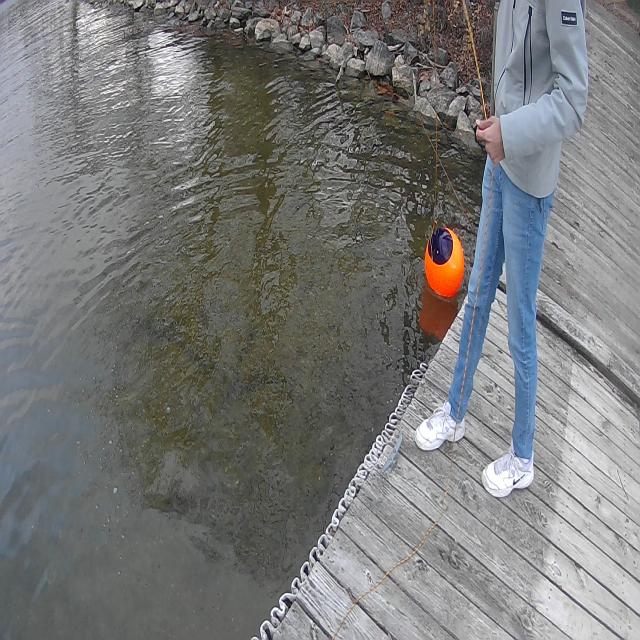Buoy: (422, 223, 468, 302)
